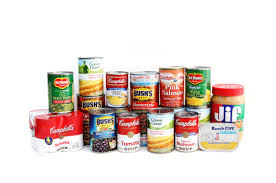can: (29, 53, 250, 153)
